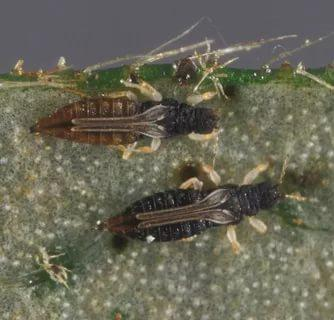tiny_pests: (57, 157, 296, 261), (7, 56, 242, 158)
